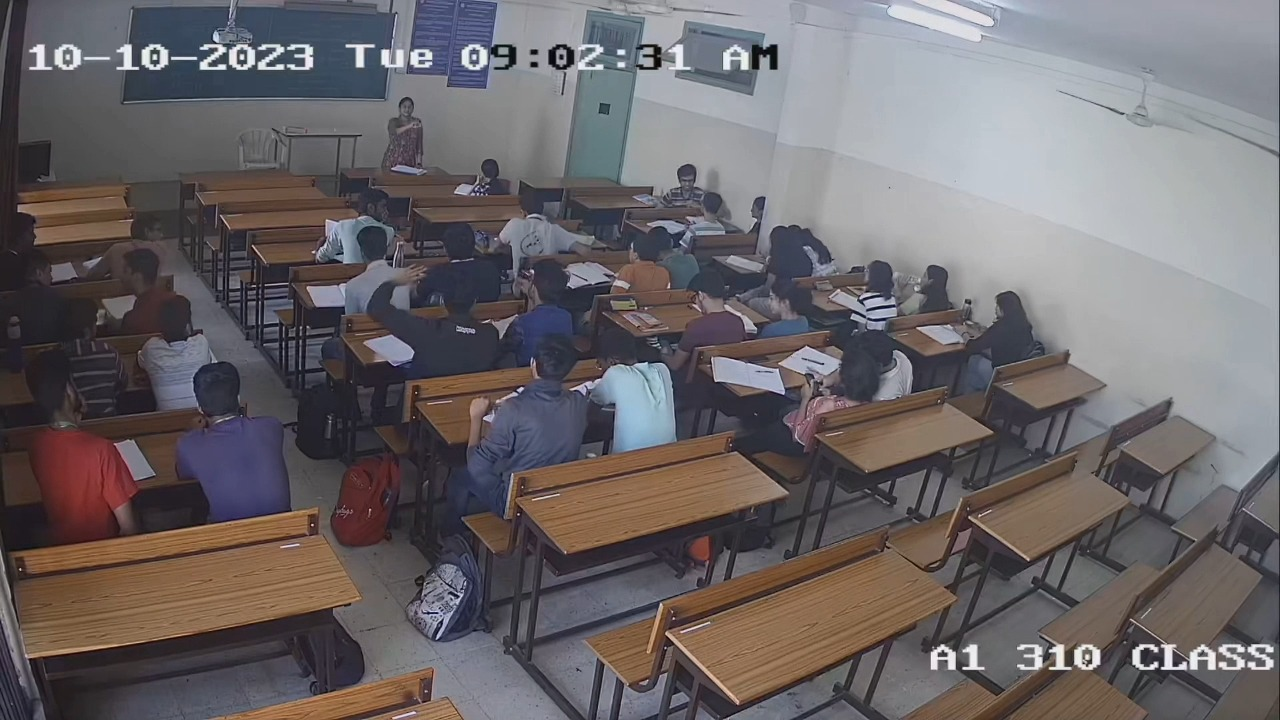cell-phones: (607, 295, 639, 313), (805, 371, 823, 395), (742, 353, 772, 364), (813, 279, 835, 292)
person: (680, 271, 746, 346), (800, 351, 871, 412), (853, 261, 896, 319)
